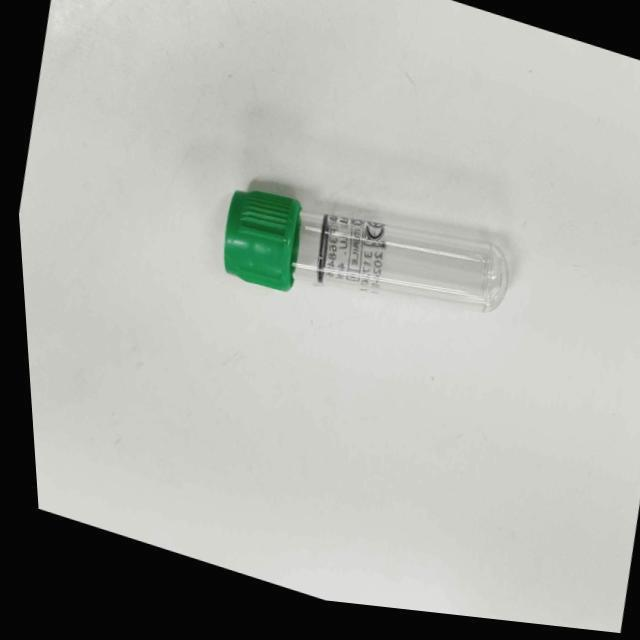General: (222, 187, 305, 293)
Pathological: (16, 0, 639, 633)
Sharps: (223, 187, 511, 313)
